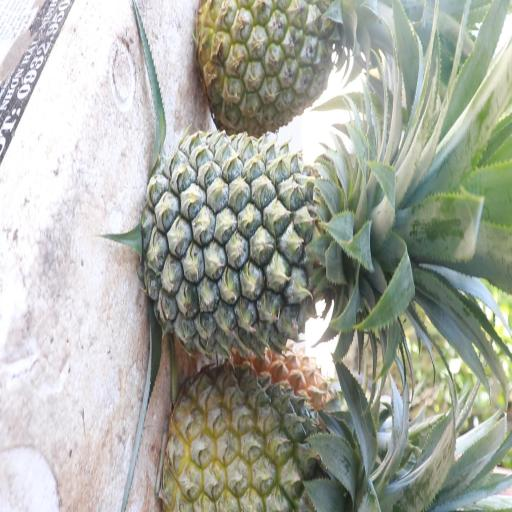------------------------------: (169, 369, 367, 512), (198, 0, 353, 132)
